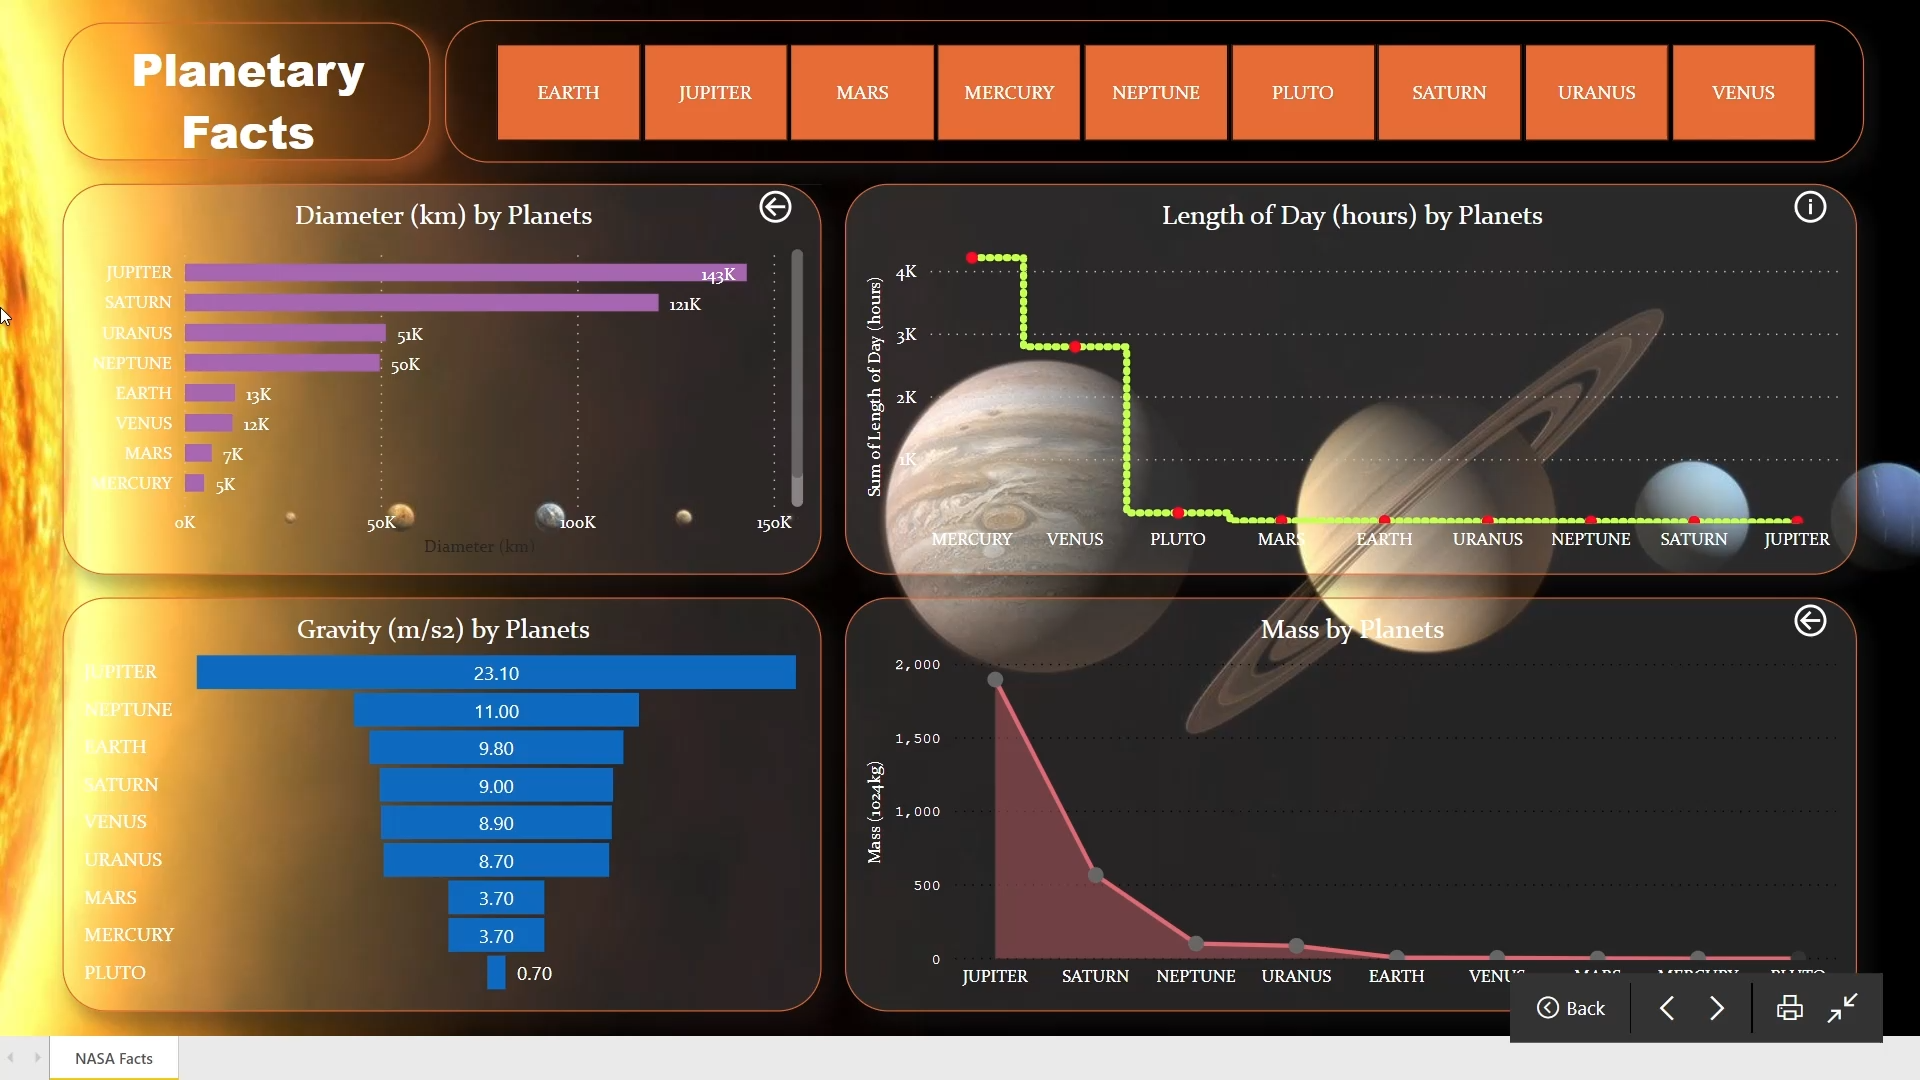

The page's visual inventory and layout, read from the dashboard file:
{"tool":"powerbi","page":{"name":"NASA Facts","canvas":[1280,720],"ordinal":0},"visuals":[{"type":"textbox","title":"Planetary Facts","box":[16,16,256,96],"z":0},{"type":"stackedAreaChart","title":"Mass by Planets","fields":{"Category":["req_table.Planets"],"Y":["Sum(req_table.Mass (1024kg))"]},"box":[560,416,704,288],"z":1000},{"type":"barChart","fields":{"Category":["req_table.Planets"],"Y":["Sum(req_table.Diameter (km))"]},"box":[16,128,528,272],"z":2000},{"type":"funnel","fields":{"Category":["req_table.Planets"],"Y":["Sum(req_table.Gravity (m/s2))"]},"box":[16,416,528,288],"z":3000},{"type":"lineChart","title":"Length of Day (hours) by Planets","fields":{"Category":["req_table.Planets"],"Y":["Sum(req_table.Length of Day (hours))"]},"box":[560,128,704,272],"z":4000},{"type":"slicer","fields":{"Values":["req_table.Planets"]},"box":[281.5,13.7,987.5,98.9],"z":5000},{"type":"actionButton","box":[496,128,32,32],"z":6000},{"type":"actionButton","box":[1216,128,32,32],"z":7000},{"type":"actionButton","box":[1216,416,32,32],"z":8000}]}

Visuals, with their boxes on the page's 1280x720 design canvas (x1, y1, x2, y2). These are canvas units, not pixel positions in the 1920x1080 screenshot, which may show the page scaled, cropped or inside an application window:
"Planetary Facts" textbox: x1=16, y1=16, x2=272, y2=112
"Mass by Planets" stackedAreaChart: x1=560, y1=416, x2=1264, y2=704
barChart - req_table.Planets x Sum(req_table.Diameter (km)): x1=16, y1=128, x2=544, y2=400
funnel - req_table.Planets x Sum(req_table.Gravity (m/s2)): x1=16, y1=416, x2=544, y2=704
"Length of Day (hours) by Planets" lineChart: x1=560, y1=128, x2=1264, y2=400
slicer - req_table.Planets: x1=282, y1=14, x2=1269, y2=113
actionButton: x1=496, y1=128, x2=528, y2=160
actionButton: x1=1216, y1=128, x2=1248, y2=160
actionButton: x1=1216, y1=416, x2=1248, y2=448
